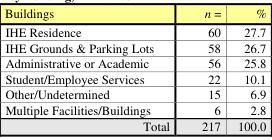table: (4, 4, 265, 133)
table column: (4, 4, 184, 133), (184, 4, 228, 133), (228, 4, 265, 133)
table column header: (4, 4, 265, 21)
table row: (4, 4, 265, 21), (4, 21, 265, 38), (4, 100, 265, 117), (4, 38, 265, 54), (4, 54, 265, 70), (4, 117, 265, 133), (4, 70, 265, 85), (4, 85, 265, 100)
